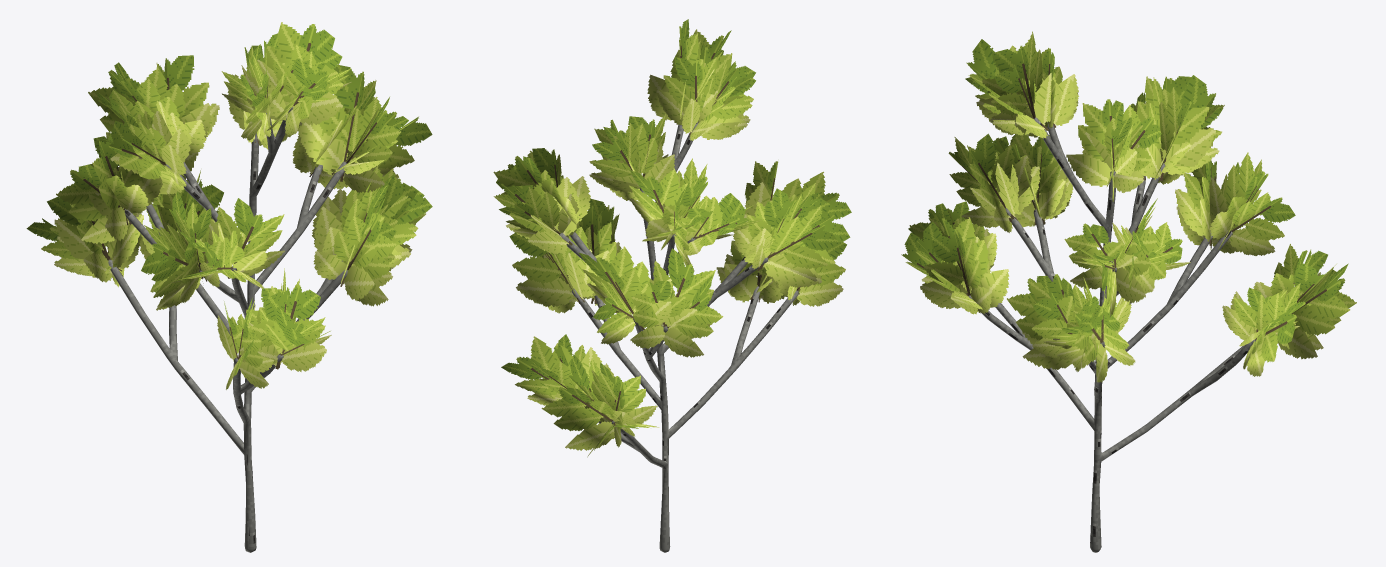
File: environment_elmsapling1_v9.fbx
3 renders of one model, left to right at view 1: azimuth 30°, elevation 25°; view 2: azimuth 150°, elevation 25°; view 3: azimuth 270°, elevation 25°, orthographic. The views are drawn at different scales.
Parts seen in each view (by area): view 1: environment_elmsapling1_v9_leaves, environment_elmsapling1_v9_wood; view 2: environment_elmsapling1_v9_leaves, environment_elmsapling1_v9_wood; view 3: environment_elmsapling1_v9_leaves, environment_elmsapling1_v9_wood.
Boxes of the visible parts, x1,y1,x2,y2 form: environment_elmsapling1_v9_leaves: (26, 22, 432, 389); environment_elmsapling1_v9_wood: (108, 107, 347, 552); environment_elmsapling1_v9_leaves: (493, 19, 851, 457); environment_elmsapling1_v9_wood: (559, 122, 798, 552); environment_elmsapling1_v9_leaves: (901, 31, 1356, 382); environment_elmsapling1_v9_wood: (968, 117, 1255, 552).
Bounding box in the file's own units: 155 × 231 × 190.
2 materials, 2 textured.
